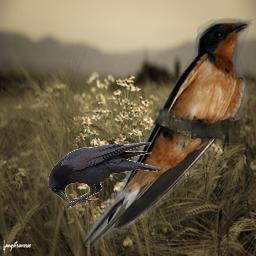Crow: (48, 142, 165, 210)
Swallow: (77, 16, 254, 247)
